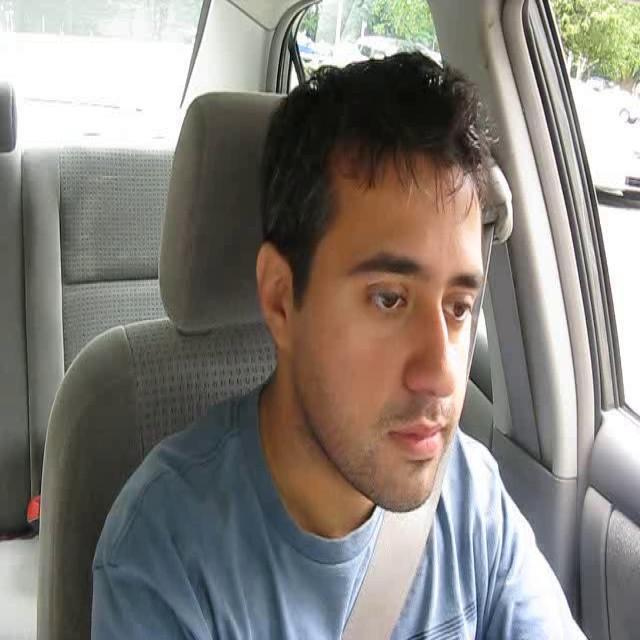open: (335, 246, 430, 326), (437, 267, 482, 330)
